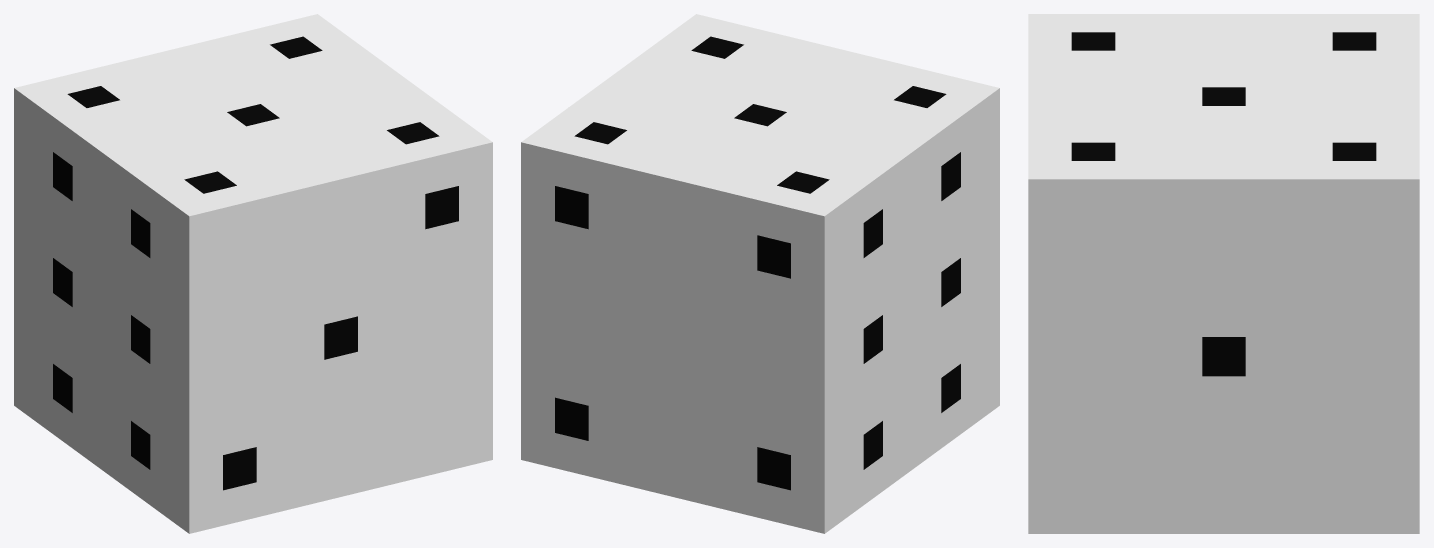
File: dice.glb
3 renders of one model, left to right at view 1: azimuth 30°, elevation 25°; view 2: azimuth 150°, elevation 25°; view 3: azimuth 270°, elevation 25°, orthographic. The views are drawn at different scales.
Visible parts, largest first — view 1: Untitled; view 2: Untitled; view 3: Untitled.
Boxes of the visible parts, left/top/right/bottom form: Untitled: left=14, top=14, right=492, bottom=533; Untitled: left=521, top=14, right=999, bottom=533; Untitled: left=1028, top=14, right=1419, bottom=533.
Bounding box in the file's own units: 0.5 × 0.5 × 0.5.
1 material, 1 textured.
